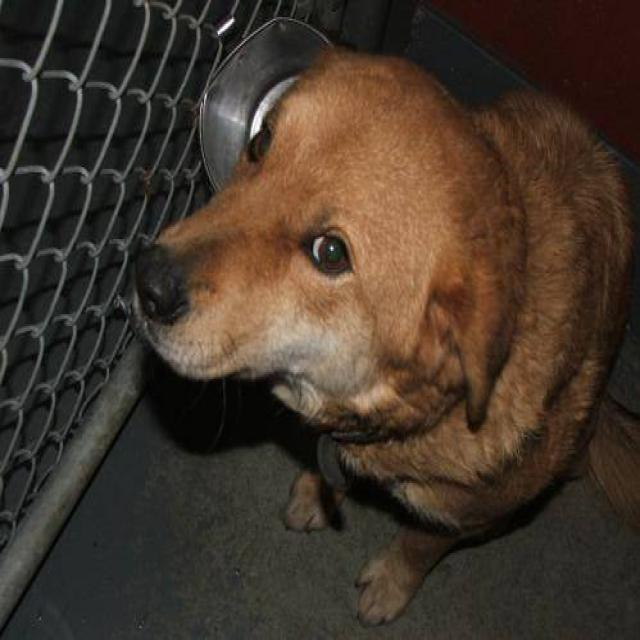dog: (126, 41, 638, 628)
